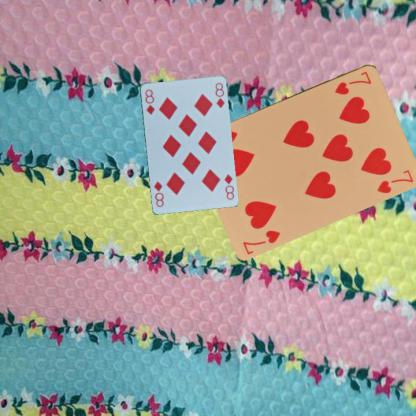7h: (240, 227, 282, 255), (332, 68, 373, 96)
8d: (142, 86, 156, 116), (221, 172, 235, 201)
